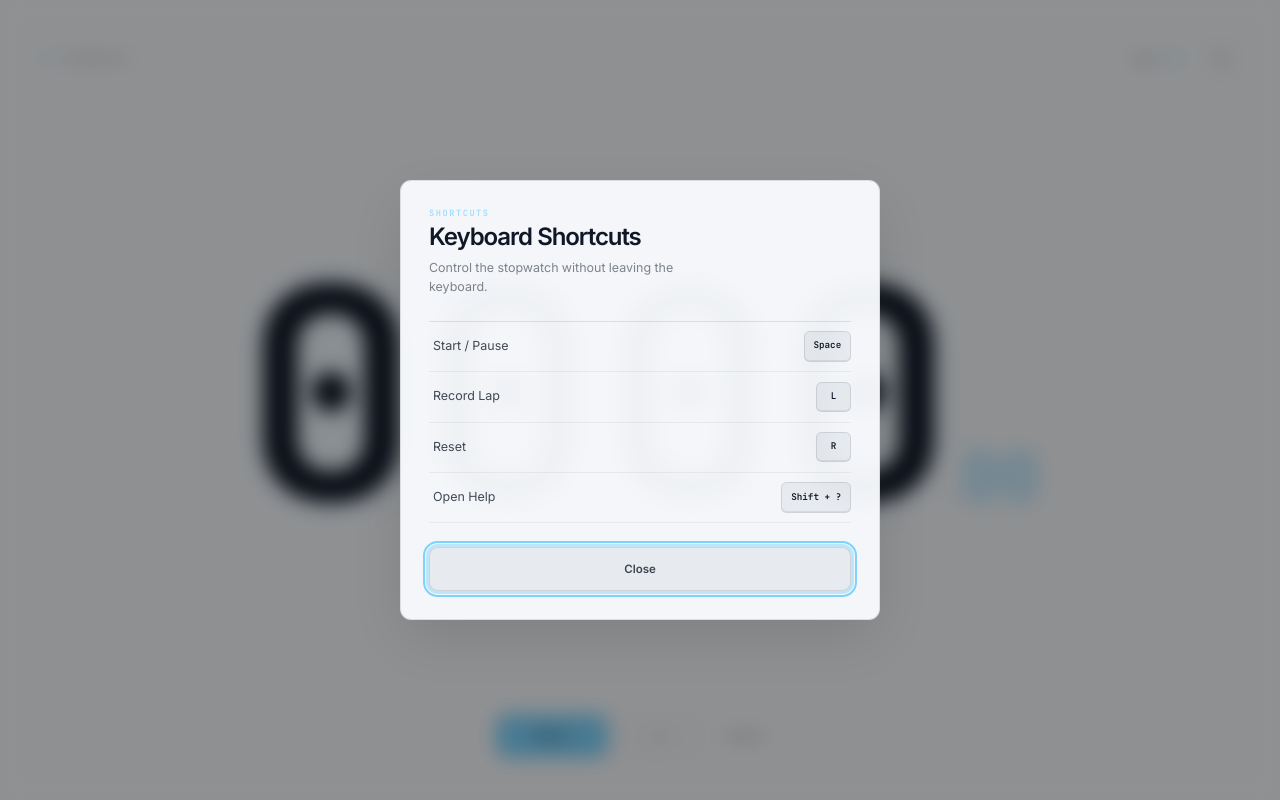
Test case: Stopwatch Component › 10. HelpModal closes when Close is clicked.
Expected: the heading "Keyboard Shortcuts" is shown, [429,222,641,251]
// Click the close button...
Step 1. Click the button "Close" → click(640, 569), box [429,547,851,591]
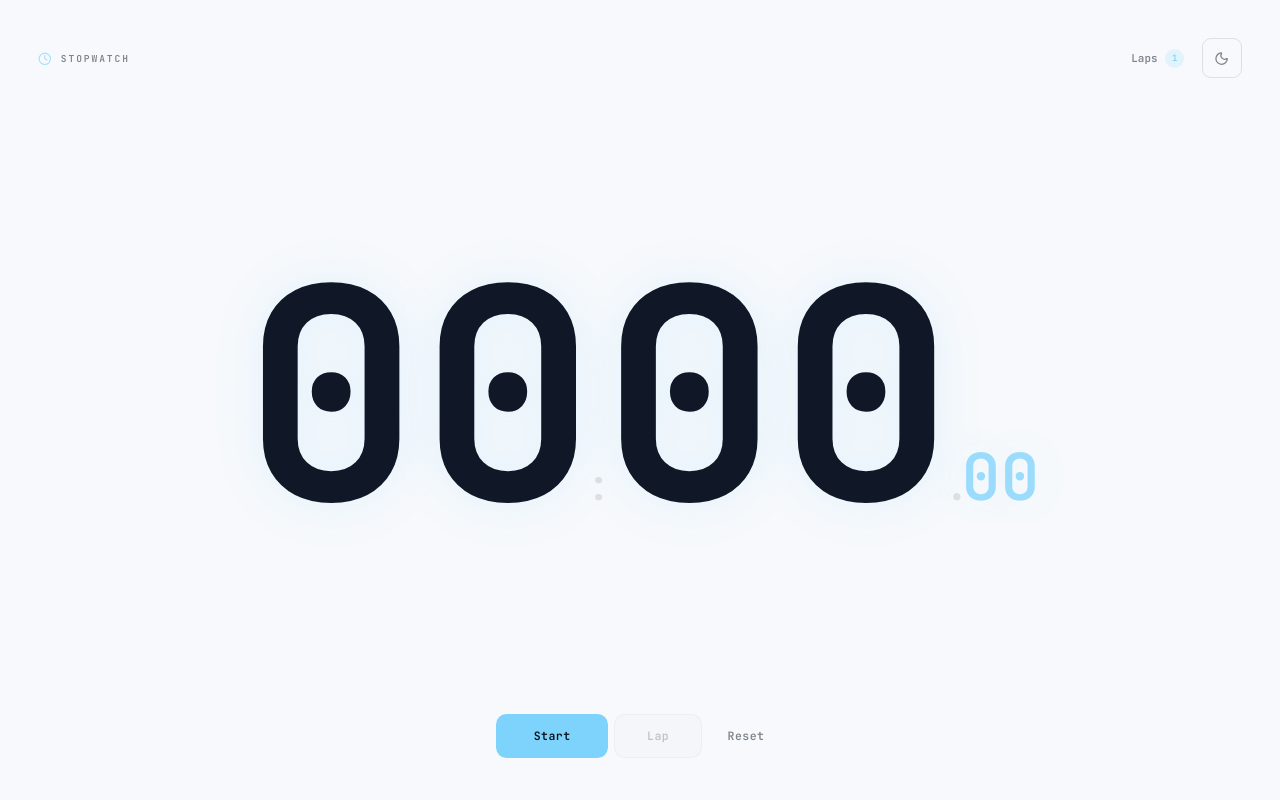
Expected: the heading "Keyboard Shortcuts" is gone
